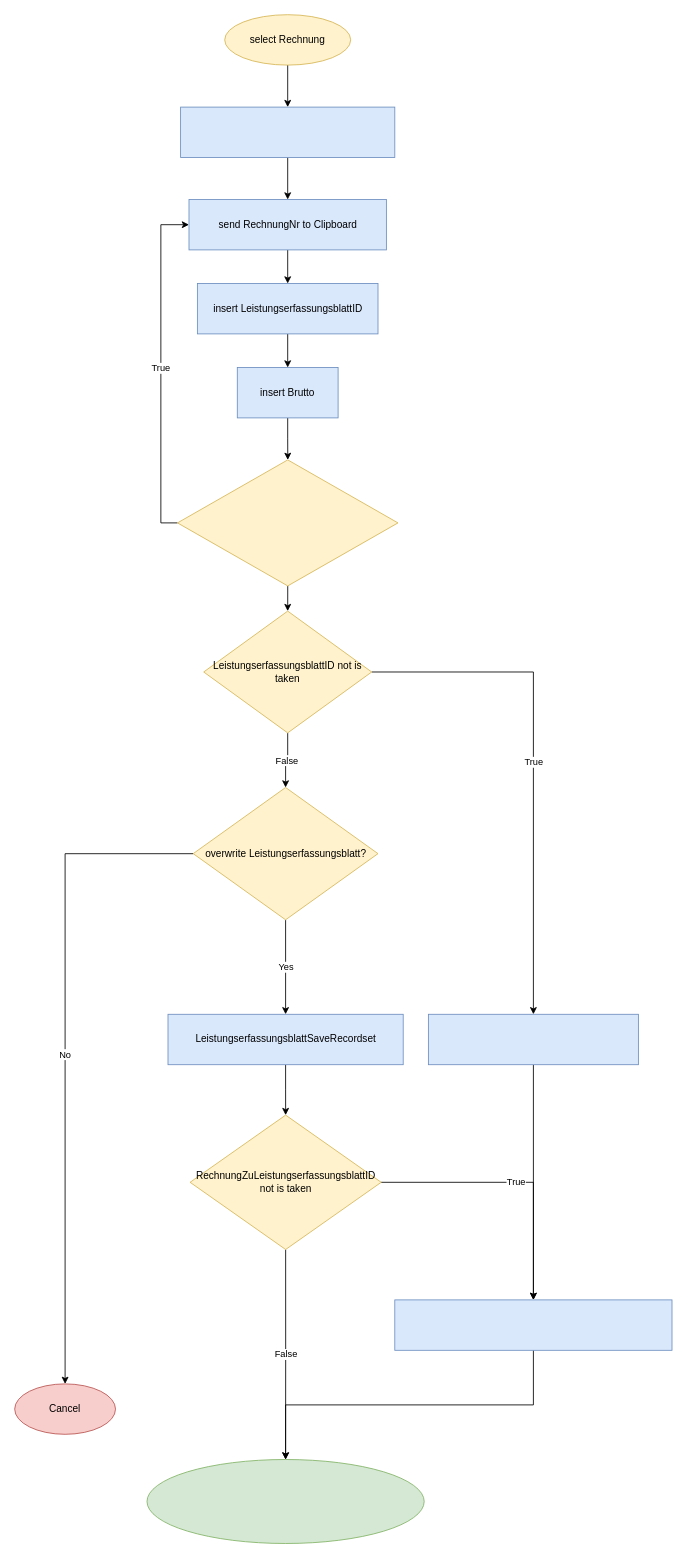
The diagram is 687 pixels wide and 1558 high, and some of its shapes have lost their labels. The centre of each missing label's shape, as x and y in pixels:
"isNull(Leistungserfassungsblatt Nr) or isNull(RechnungNr) or isNull(Brutto)" goes at point 287,522.
"LeistungserfassungsblattCreateRecordset" goes at point 533,1039.
"LeistungserfassungsblattErstellen executed" goes at point 285,1501.
"open frmLeistungserfasungsblattErstellen" goes at point 287,132.
"RechnungZuLeistungserfassungsblattCreateRecordset" goes at point 533,1324.
